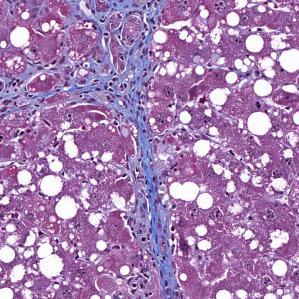fibrosis: (48, 0, 161, 103), (134, 151, 174, 264)
